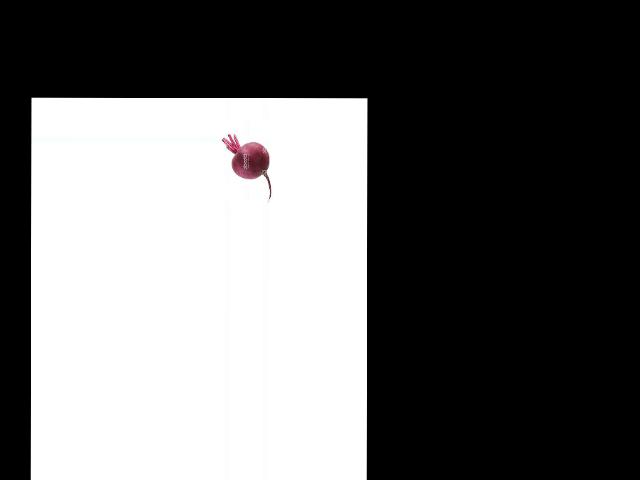beet: (222, 134, 271, 202)
